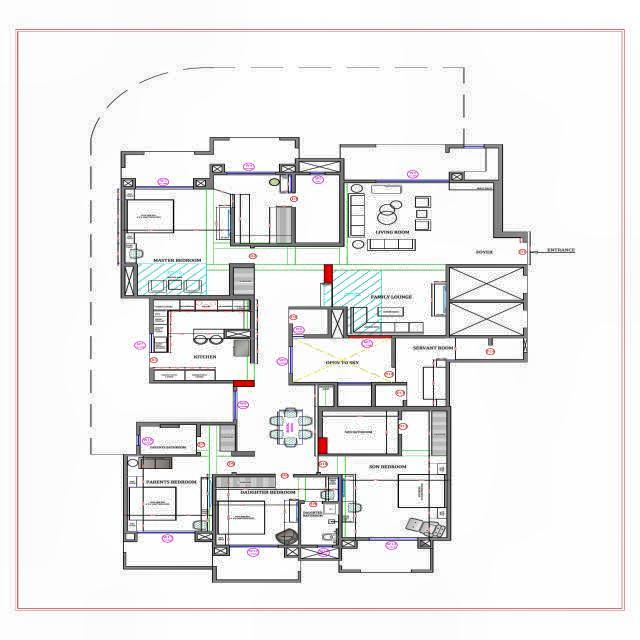room: (321, 411, 447, 538), (344, 183, 523, 264), (125, 189, 230, 295), (375, 338, 523, 406), (215, 175, 339, 243), (215, 477, 338, 545), (333, 264, 446, 335), (153, 300, 251, 380), (127, 456, 212, 531), (340, 144, 499, 180), (236, 386, 318, 454), (293, 338, 391, 382), (323, 411, 397, 454), (126, 533, 212, 567), (121, 154, 209, 186), (217, 547, 298, 580), (342, 540, 430, 570), (214, 140, 295, 172), (139, 425, 196, 455), (301, 503, 336, 545), (289, 309, 328, 335)
